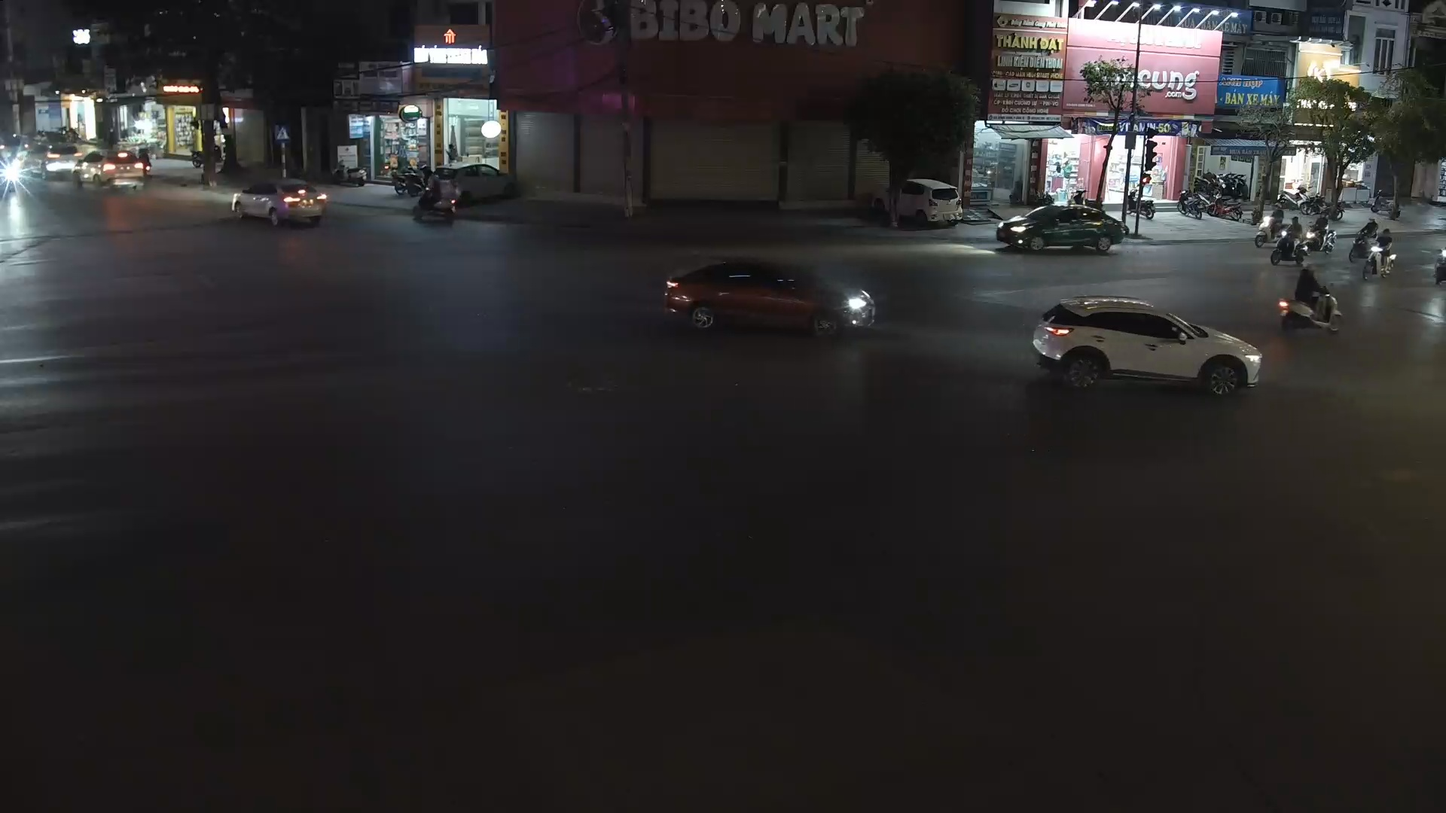car: (1030, 296, 1262, 398), (660, 258, 878, 338), (993, 202, 1126, 257), (231, 180, 328, 231)
motorbike: (1274, 260, 1345, 338)
